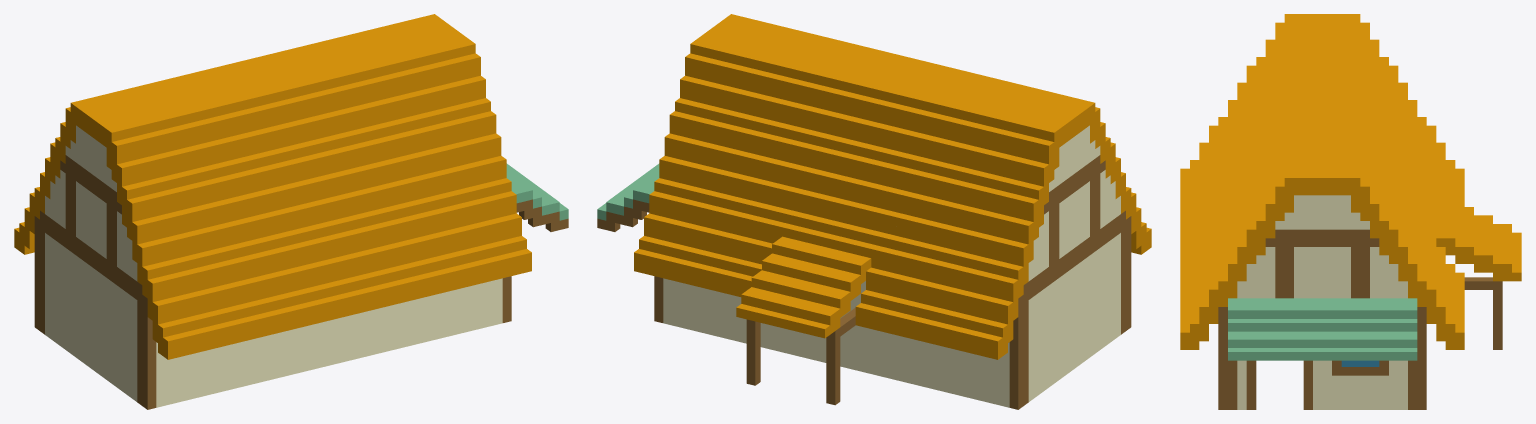
File: house.glb
3 renders of one model, left to right at view 1: azimuth 30°, elevation 25°; view 2: azimuth 150°, elevation 25°; view 3: azimuth 270°, elevation 25°, orthographic. The views are drawn at different scales.
Visible parts, largest first — view 1: pl0; view 2: pl0; view 3: pl0.
Boxes of the visible parts, x1,y1,x2,y2 form: pl0: (14,14,568,409); pl0: (597,14,1151,409); pl0: (1180,14,1521,409).
Bounding box in the file's own units: 48 × 27 × 36.
Materials: 1 (1 with a texture image).
